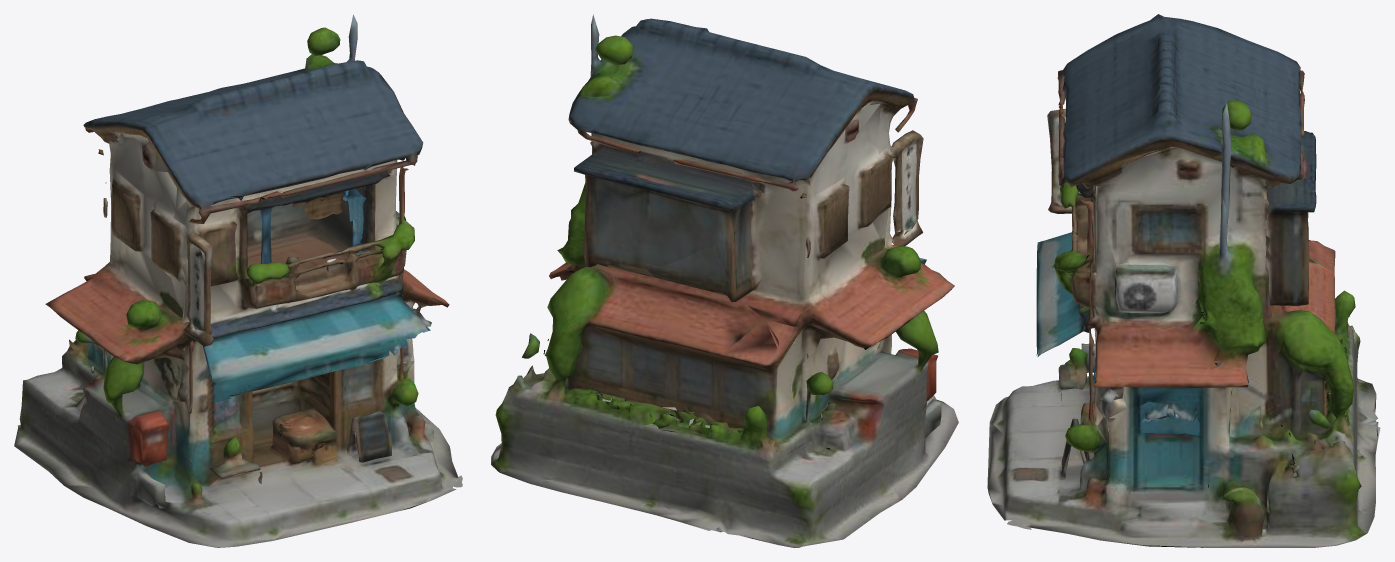
File: building17.glb
The picture shows the model from 3 angles, left to right: view 1: azimuth 30°, elevation 25°; view 2: azimuth 150°, elevation 25°; view 3: azimuth 270°, elevation 25°; orthographic projection. The views are drawn at different scales.
Visible parts, largest first — view 1: lo; view 2: lo; view 3: lo.
Boxes of the visible parts, x1,y1,x2,y2 form: lo: (14, 14, 462, 547); lo: (491, 14, 958, 547); lo: (987, 14, 1380, 547).
Bounding box in the file's own units: 90.02 × 99.56 × 84.4.
Materials: 1 (1 with a texture image).
